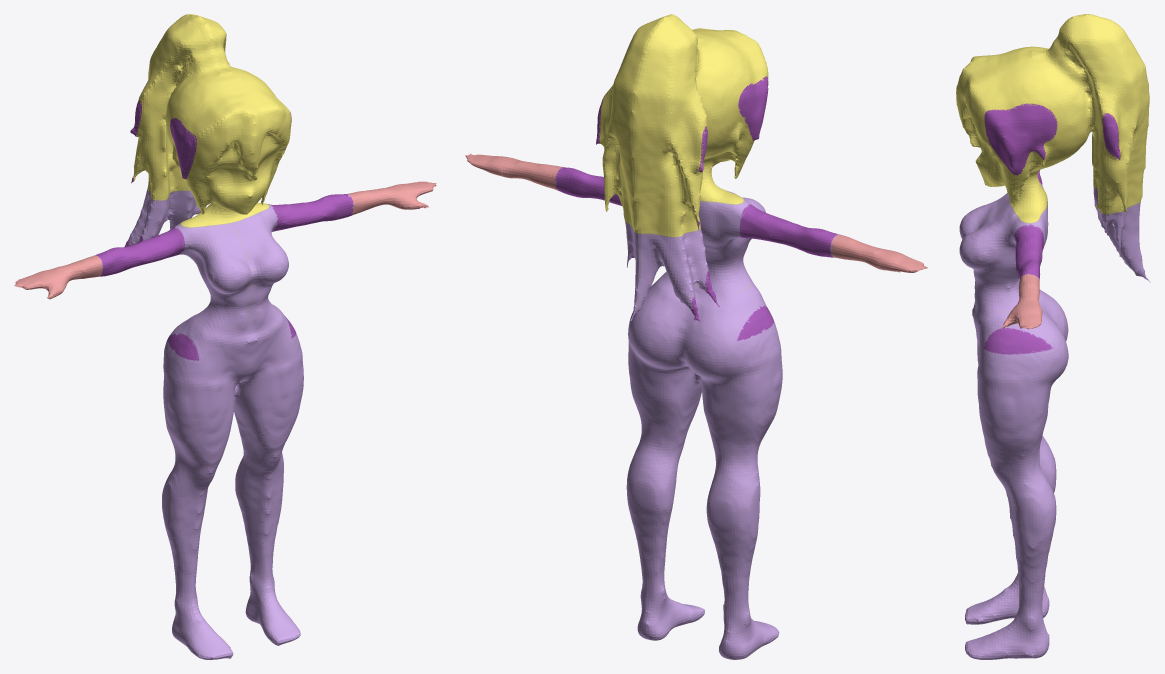
File: character_separated_hybrid_v3.glb
3 views of the same model, side by side, from view 1: azimuth 30°, elevation 25°; view 2: azimuth 150°, elevation 25°; view 3: azimuth 270°, elevation 25° (orthographic). The views are drawn at different scales.
Parts seen in each view (by area): view 1: Part_LEG_LOWER_L, Part_HEAD_HAIR, Part_LEG_LOWER_R, Part_ARM_UPPER_L, Part_ARM_UPPER_R, Part_ARM_LOWER_R, Part_ARM_LOWER_L; view 2: Part_LEG_LOWER_L, Part_HEAD_HAIR, Part_LEG_LOWER_R, Part_ARM_UPPER_L, Part_ARM_LOWER_L, Part_ARM_LOWER_R, Part_ARM_UPPER_R; view 3: Part_LEG_LOWER_R, Part_HEAD_HAIR, Part_ARM_UPPER_R, Part_LEG_LOWER_L, Part_ARM_LOWER_R.
Part boxes in pixels (left/top/right/bottom): Part_LEG_LOWER_L: left=98, top=190, right=253, bottom=659; Part_HEAD_HAIR: left=133, top=14, right=291, bottom=227; Part_LEG_LOWER_R: left=186, top=191, right=354, bottom=645; Part_ARM_UPPER_L: left=96, top=100, right=199, bottom=360; Part_ARM_UPPER_R: left=268, top=112, right=353, bottom=338; Part_ARM_LOWER_R: left=347, top=181, right=436, bottom=215; Part_ARM_LOWER_L: left=14, top=255, right=102, bottom=299; Part_LEG_LOWER_L: left=639, top=191, right=840, bottom=659; Part_HEAD_HAIR: left=598, top=14, right=768, bottom=236; Part_LEG_LOWER_R: left=554, top=168, right=704, bottom=640; Part_ARM_UPPER_L: left=691, top=76, right=837, bottom=340; Part_ARM_LOWER_L: left=830, top=234, right=927, bottom=272; Part_ARM_LOWER_R: left=465, top=153, right=562, bottom=190; Part_ARM_UPPER_R: left=555, top=95, right=653, bottom=317; Part_LEG_LOWER_R: left=959, top=202, right=1150, bottom=659; Part_HEAD_HAIR: left=956, top=14, right=1149, bottom=222; Part_ARM_UPPER_R: left=983, top=103, right=1120, bottom=354; Part_LEG_LOWER_L: left=959, top=182, right=1107, bottom=624; Part_ARM_LOWER_R: left=1001, top=274, right=1042, bottom=329.
Size of the model in its own units: 1.46 by 1.96 by 0.5555.
